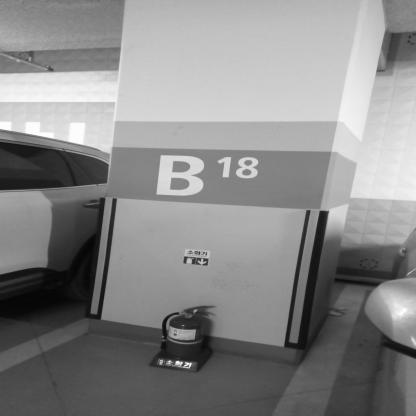FE: (149, 306, 215, 372)
